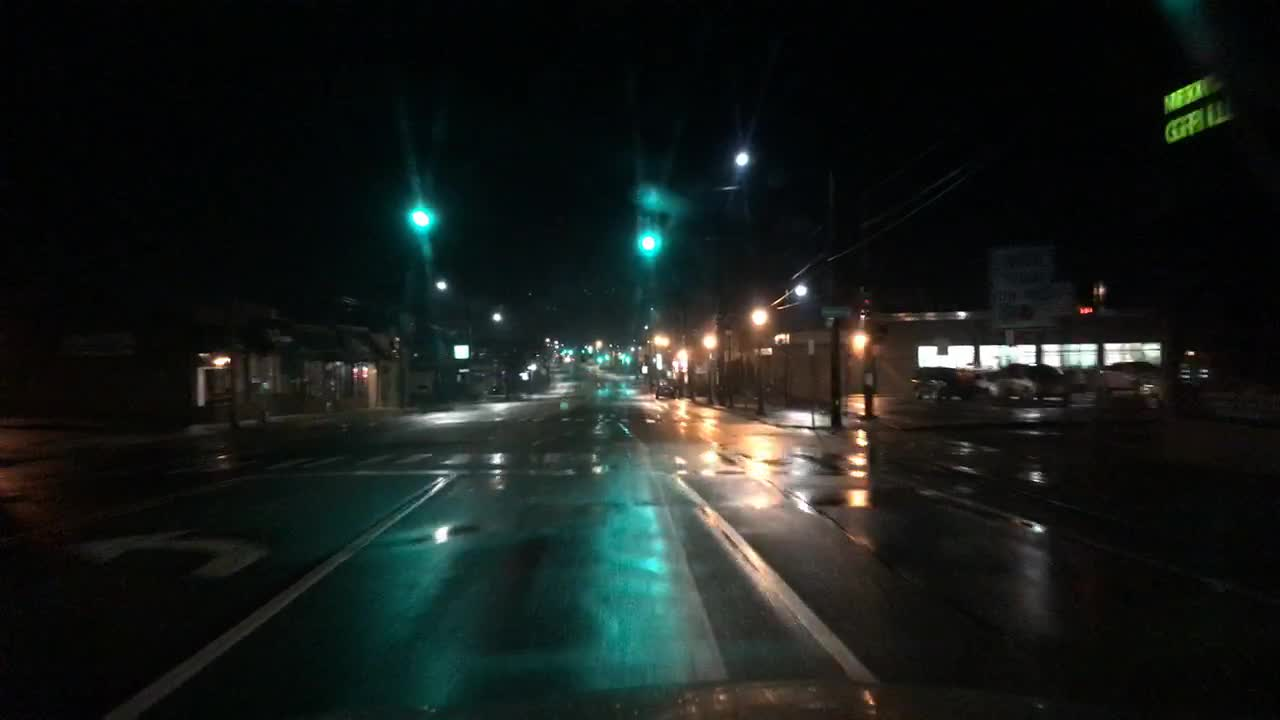car: (989, 361, 1070, 405), (907, 365, 975, 405), (1099, 360, 1161, 391), (652, 382, 676, 398)
traffic light: (411, 194, 427, 236), (844, 326, 865, 353), (642, 221, 654, 259)
traffic sign: (995, 243, 1056, 331), (1056, 282, 1073, 320), (816, 303, 853, 319)
